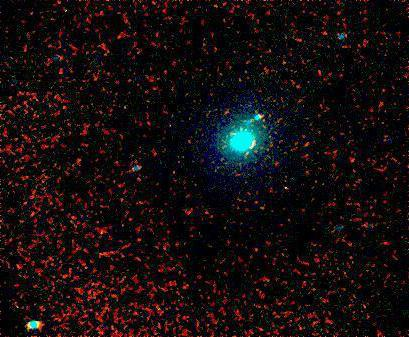star: (48, 0, 78, 27)
